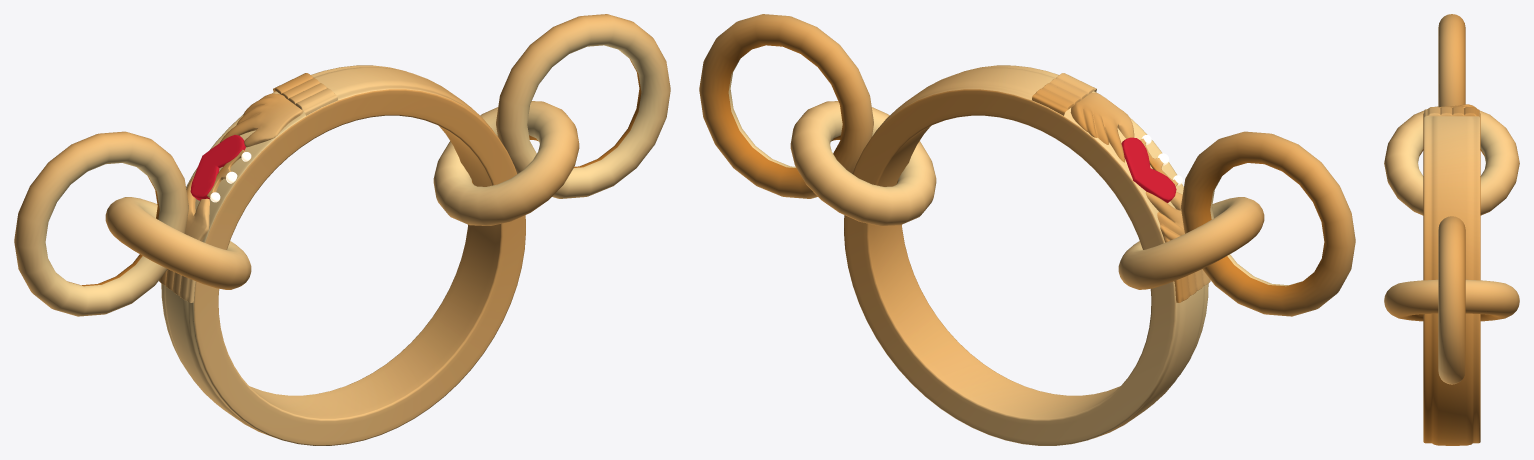
File: hashigo_r_c.fbx
3 views of the same model, side by side, from view 1: azimuth 30°, elevation 25°; view 2: azimuth 150°, elevation 25°; view 3: azimuth 270°, elevation 25° (orthographic). The views are drawn at different scales.
Visible parts, largest first — view 1: polySurface4; view 2: polySurface4; view 3: polySurface4.
Boxes of the visible parts, x1,y1,x2,y2 form: polySurface4: [14, 14, 670, 445]; polySurface4: [699, 14, 1355, 445]; polySurface4: [1384, 14, 1519, 445].
Bounding box in the file's own units: 19.09 × 9.99 × 4.
